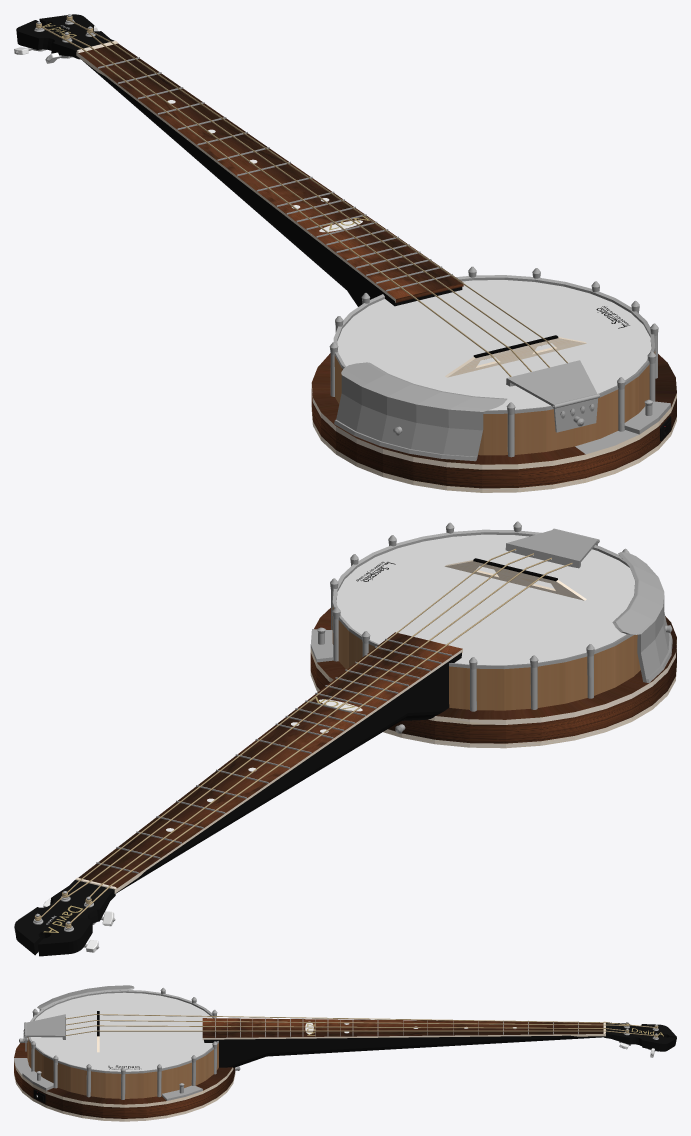
File: banjo.glb
3 renders of one model, top to bottom at view 1: azimuth 30°, elevation 25°; view 2: azimuth 150°, elevation 25°; view 3: azimuth 270°, elevation 25°, orthographic. The views are drawn at different scales.
Visible parts, largest first — view 1: Cilindro_0, Cubo_1, Cubo.001_2, Cubo.003_4, Cubo.002_3, Cubo.004_5, Cilindro.016_44, Cilindro.018_45, Cilindro.017_46, Cilindro.019_47, Cubo.005_6; view 2: Cilindro_0, Cubo_1, Cubo.001_2, Cubo.002_3, Cubo.003_4, Cubo.004_5, Cilindro.016_44, Cilindro.018_45, Cilindro.019_47, Cilindro.017_46; view 3: Cilindro_0, Cubo_1, Cubo.001_2, Cubo.002_3, Cilindro.017_46, Cilindro.016_44, Cilindro.018_45, Cilindro.019_47, Cubo.003_4.
Part boxes in pixels (x1,y1,x2,y2): Cilindro_0: (311, 275, 676, 492); Cubo_1: (76, 40, 463, 302); Cubo.001_2: (81, 59, 462, 306); Cubo.003_4: (506, 360, 597, 406); Cubo.002_3: (16, 14, 114, 59); Cubo.004_5: (445, 335, 586, 377); Cilindro.016_44: (41, 26, 511, 376); Cilindro.018_45: (70, 36, 531, 371); Cilindro.017_46: (69, 19, 567, 363); Cilindro.019_47: (86, 31, 549, 367); Cubo.005_6: (553, 398, 598, 432); Cilindro_0: (310, 529, 676, 748); Cubo_1: (75, 632, 462, 893); Cubo.001_2: (116, 652, 461, 893); Cubo.002_3: (14, 880, 115, 956); Cubo.003_4: (505, 529, 597, 568); Cubo.004_5: (444, 558, 586, 600); Cilindro.016_44: (70, 563, 572, 922); Cilindro.018_45: (89, 557, 551, 896); Cilindro.019_47: (66, 553, 533, 897); Cilindro.017_46: (41, 548, 516, 917); Cilindro_0: (14, 985, 235, 1121); Cubo_1: (202, 1017, 605, 1040); Cubo.001_2: (204, 1035, 604, 1067); Cubo.002_3: (604, 1022, 676, 1051); Cilindro.017_46: (65, 1030, 654, 1035); Cilindro.016_44: (65, 1014, 654, 1027); Cilindro.018_45: (66, 1020, 627, 1025); Cilindro.019_47: (65, 1025, 625, 1031); Cubo.003_4: (26, 1014, 65, 1039).
Size of the model in its own units: 2 by 0.5232 by 5.99.
13 materials, 3 textured.
